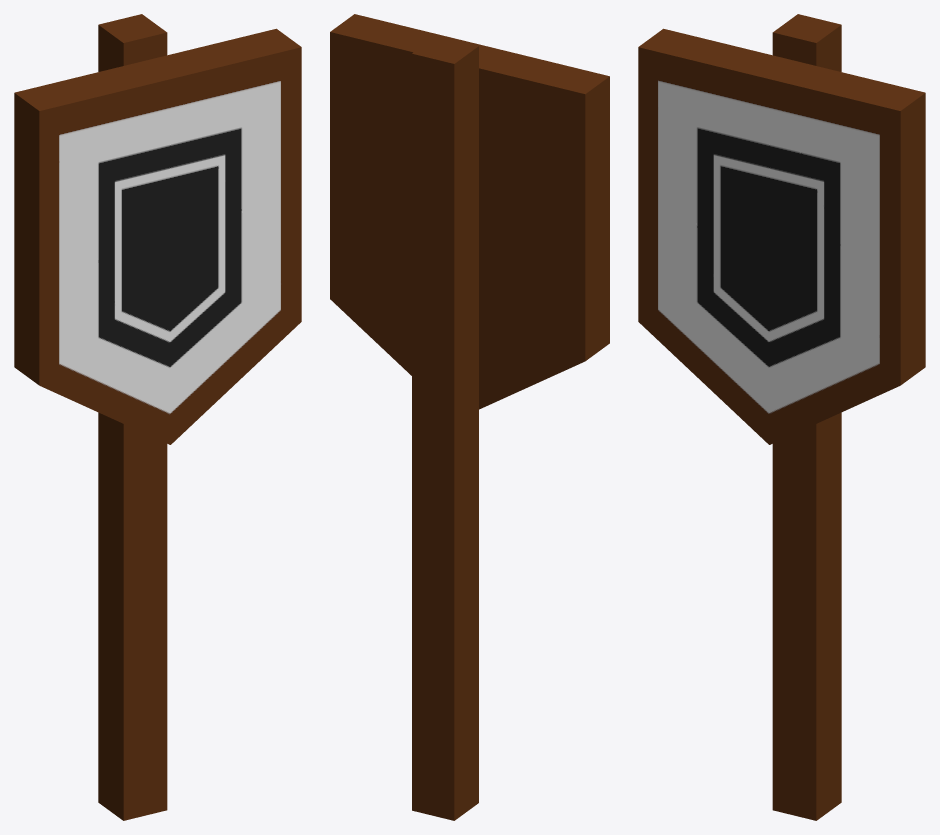
The model's file is Sign_02.fbx.
The picture shows the model from 3 angles, left to right: view 1: azimuth 30°, elevation 25°; view 2: azimuth 150°, elevation 25°; view 3: azimuth 330°, elevation 25°; orthographic projection. The views are drawn at different scales.
Parts seen in each view (by area): view 1: Sign_02; view 2: Sign_02; view 3: Sign_02.
Part boxes in pixels (<box>): Sign_02: <box>14,14,301,820</box>; Sign_02: <box>330,14,609,820</box>; Sign_02: <box>638,14,925,820</box>.
Bounding box in the file's own units: 60 × 170 × 20.
Materials: 1 (1 with a texture image).
